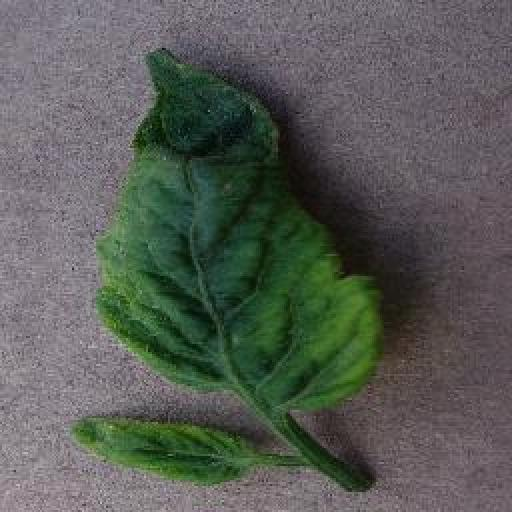disease_tomato: (90, 46, 384, 412), (64, 416, 258, 486)
